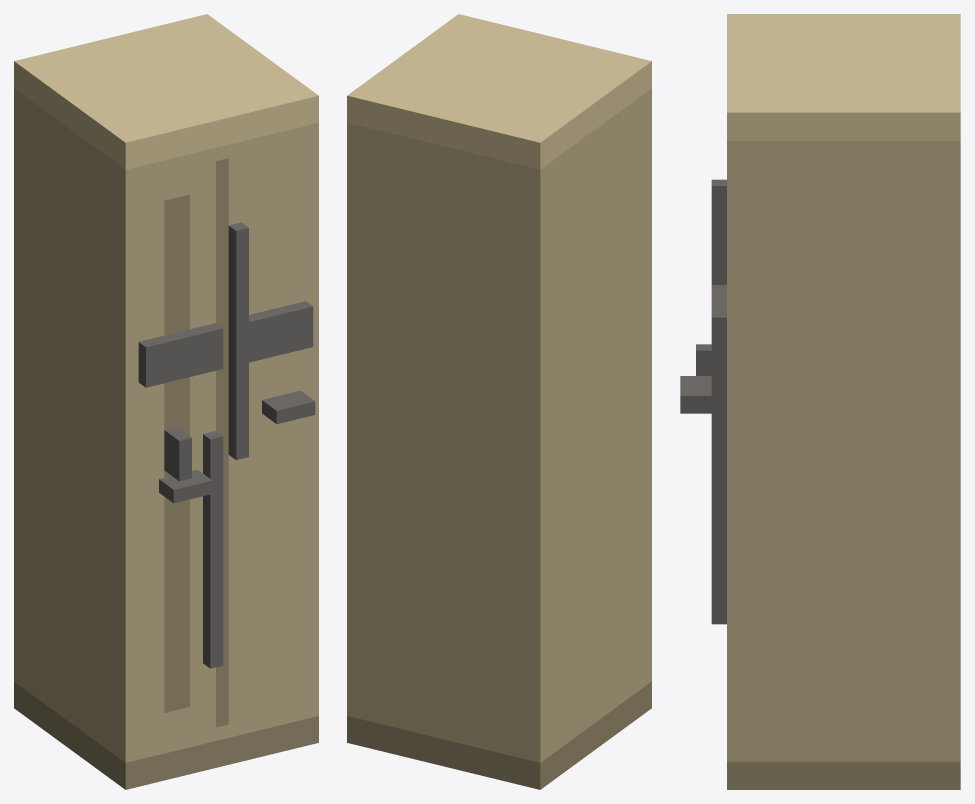
The model's file is cesto_mimbre_roto_01.glb.
3 renders of one model, left to right at view 1: azimuth 30°, elevation 25°; view 2: azimuth 150°, elevation 25°; view 3: azimuth 270°, elevation 25°, orthographic. The views are drawn at different scales.
Visible parts, largest first — view 1: cesto_mimbre_roto; view 2: cesto_mimbre_roto; view 3: cesto_mimbre_roto.
Part boxes in pixels (x1,y1,x2,y2): cesto_mimbre_roto: (14, 14, 318, 789); cesto_mimbre_roto: (347, 14, 651, 789); cesto_mimbre_roto: (680, 14, 960, 789).
Bounding box in the file's own units: 1 × 3.2 × 1.2.
